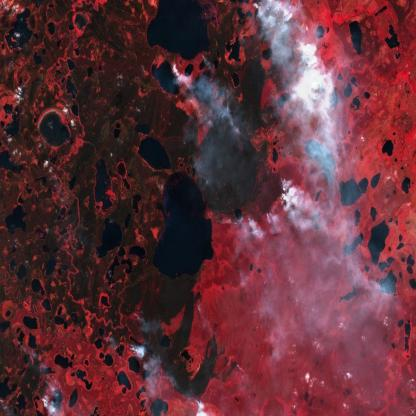fire: (247, 0, 323, 89), (216, 164, 302, 239), (163, 52, 200, 130), (115, 327, 150, 372), (32, 370, 63, 416), (182, 380, 211, 416)
